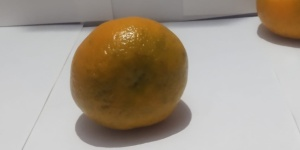BAD: (69, 15, 192, 134)
